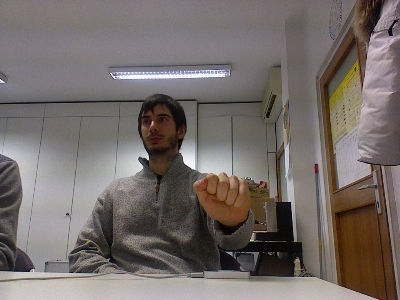石头: (192, 171, 252, 226)
